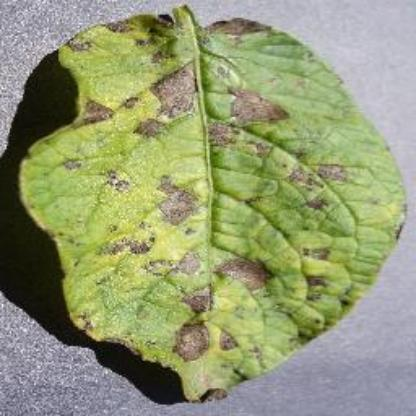Early-Blight: (21, 5, 409, 403)
